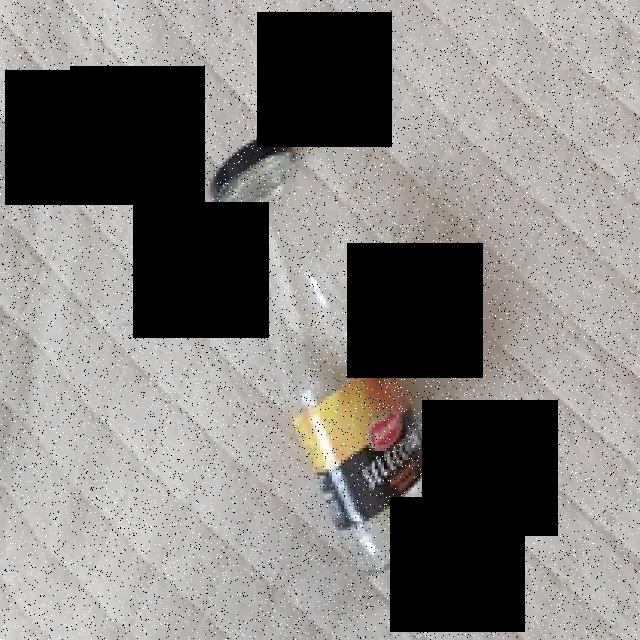glass-bottle: (174, 98, 502, 604)
